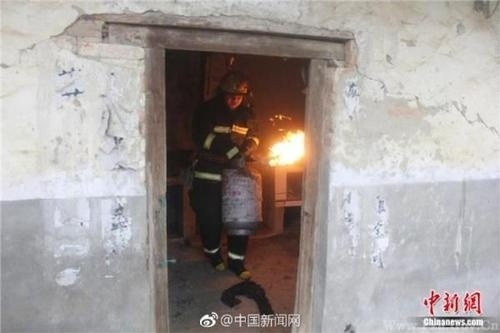fire: (268, 127, 306, 164)
